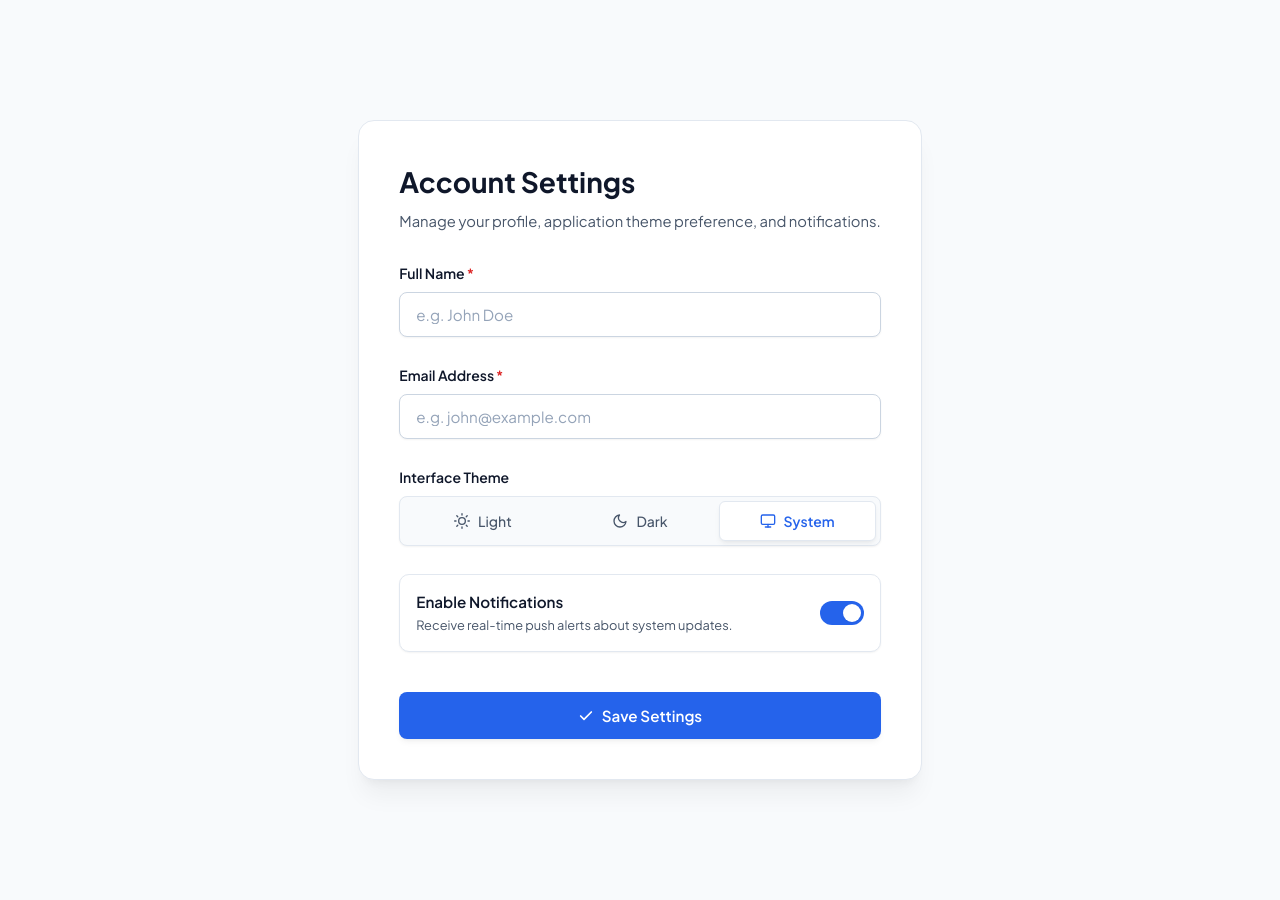
Test: SettingsForm Component › submits successfully and shows success notification on valid inputs
Use fireEvent to set values directly to avoid userEvent's async typing delays under fake timers
Type "Alice Smith" into the field labelled "Full Name*" at x=640, y=315, box [399, 292, 881, 337]
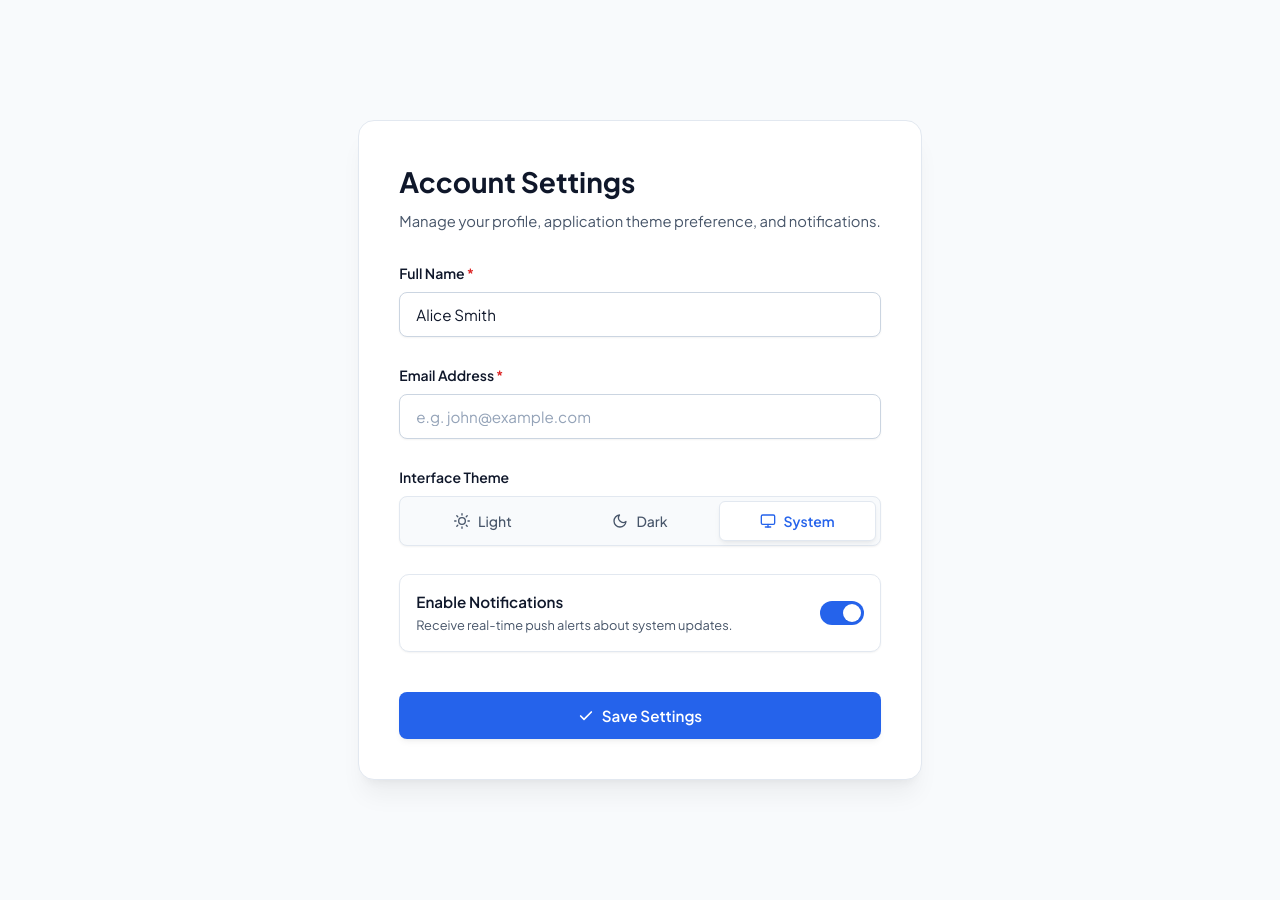
Type "alice@example.com" into the field labelled "Email Address*" at x=640, y=417, box [399, 394, 881, 439]
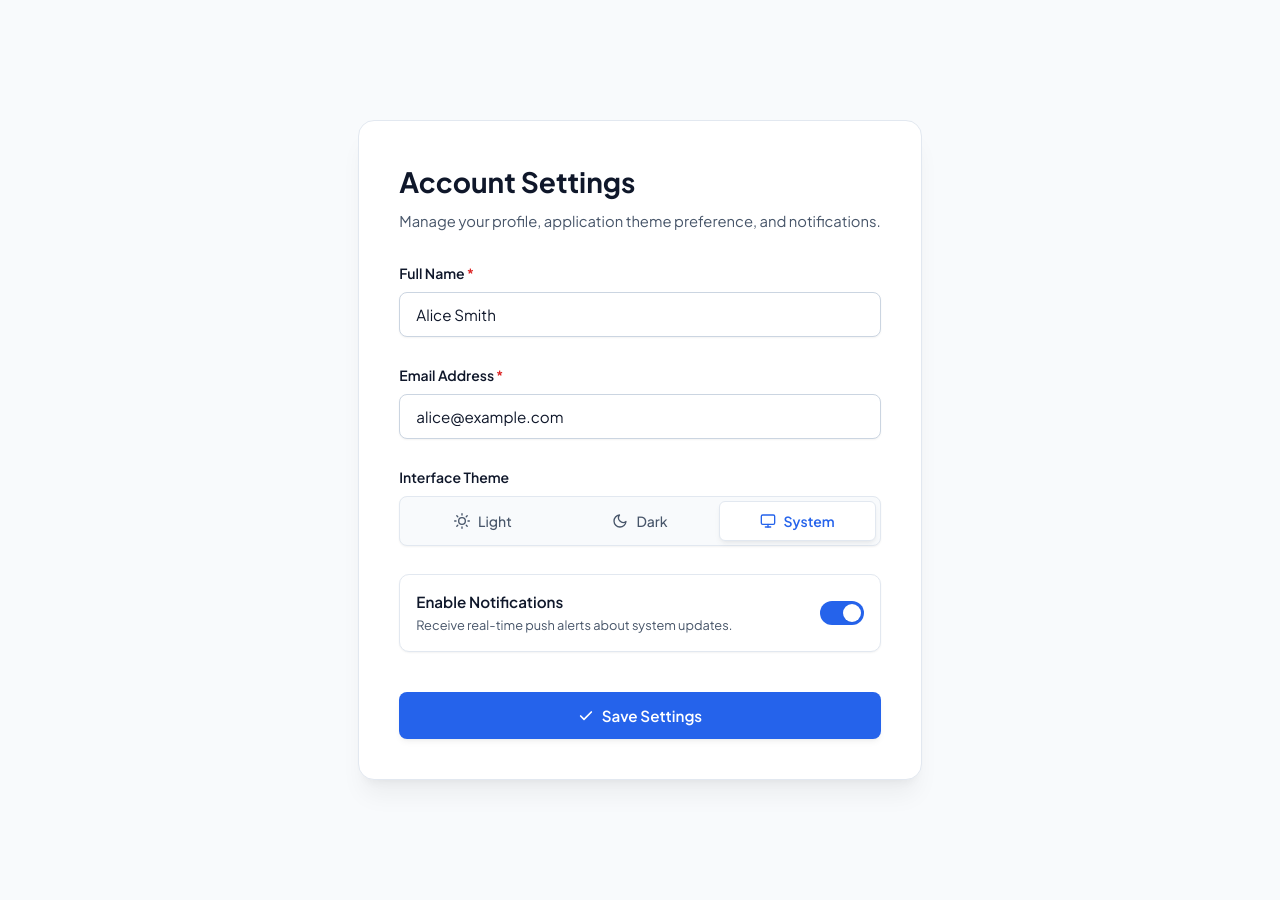
Select dark theme
Click the radio button labelled "Dark" at x=640, y=521, box [561, 501, 719, 541]
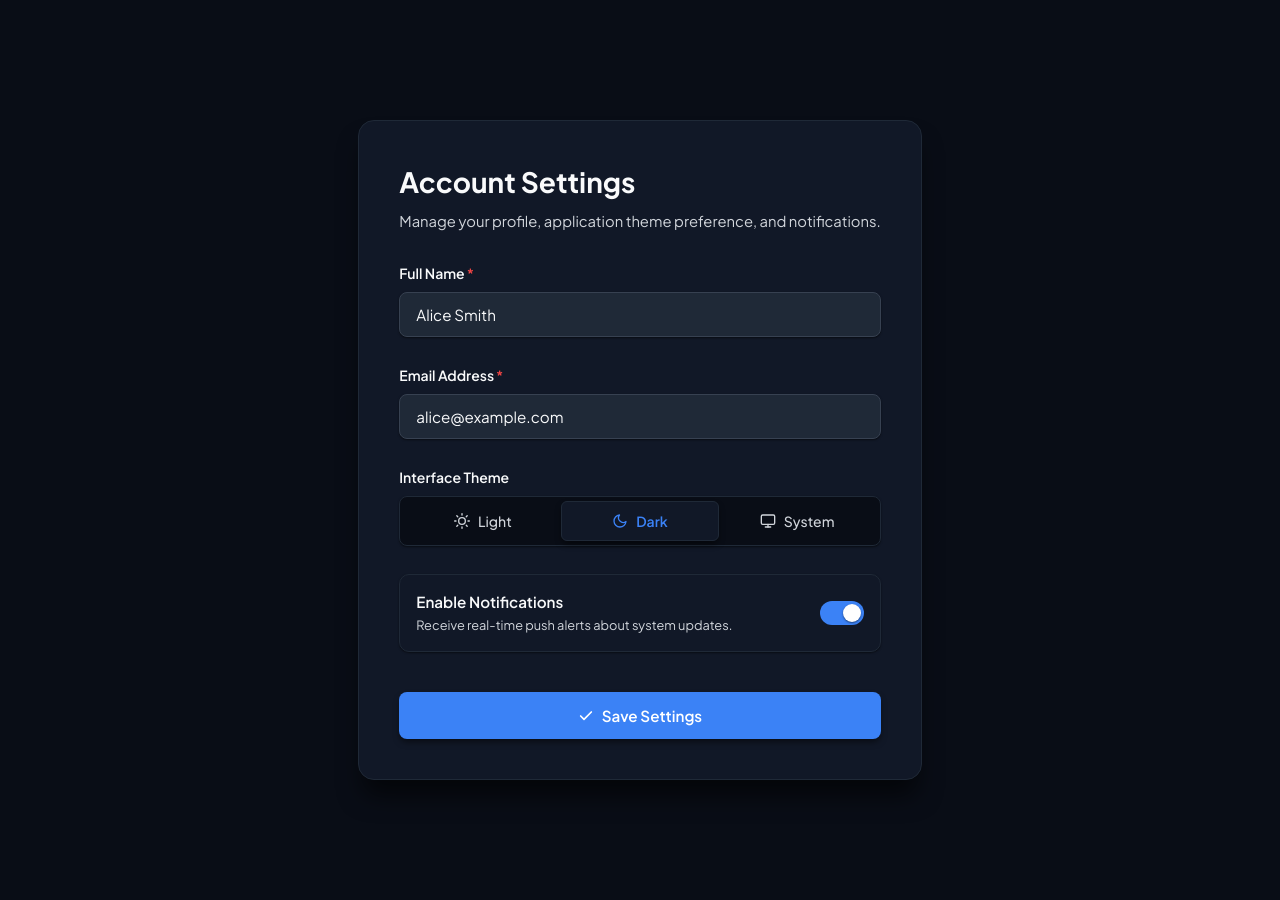
Submit form
Click the button "Save Settings" at x=640, y=716, box [399, 692, 881, 739]
Wait 1000 ms
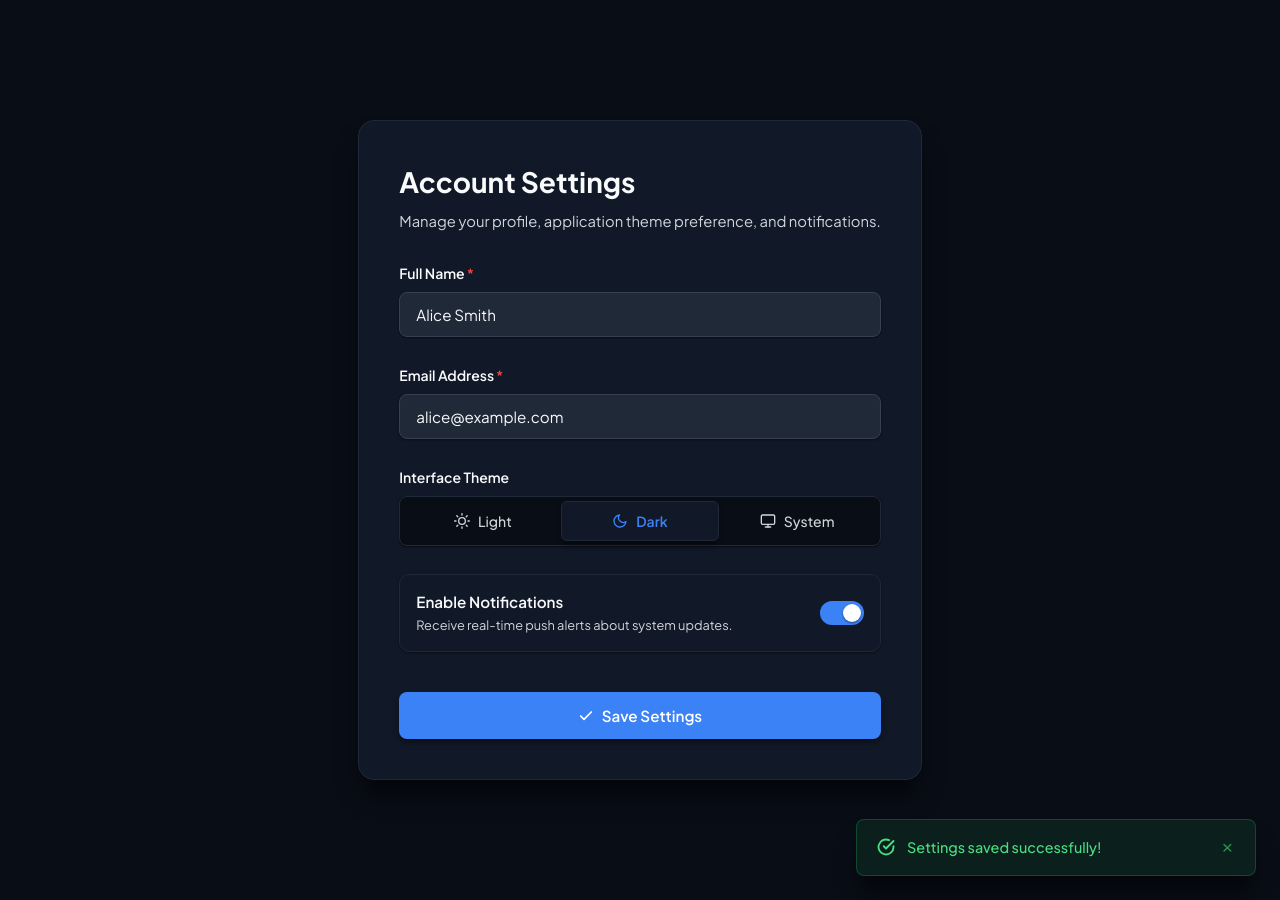
Expected: the text "Saving Settings..." is shown, [602, 706, 702, 725]
Expected: the text "Settings saved successfully!" is shown, [907, 837, 1102, 858]
